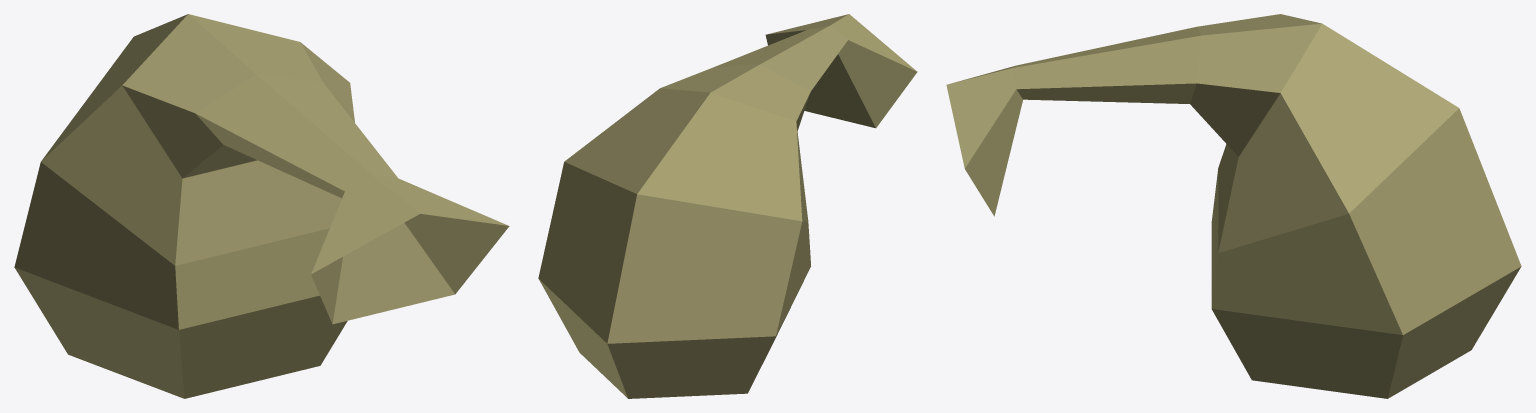
Rendered from gold_bag.fbx.
3 renders of one model, left to right at view 1: azimuth 30°, elevation 25°; view 2: azimuth 150°, elevation 25°; view 3: azimuth 270°, elevation 25°, orthographic. The views are drawn at different scales.
Parts seen in each view (by area): view 1: Circle; view 2: Circle; view 3: Circle.
Boxes of the visible parts, box(x1,y1,x2,y2) form: Circle: box(14, 14, 509, 398); Circle: box(538, 14, 917, 398); Circle: box(946, 14, 1521, 398).
Bounding box in the file's own units: 32.52 × 38.68 × 56.63.
